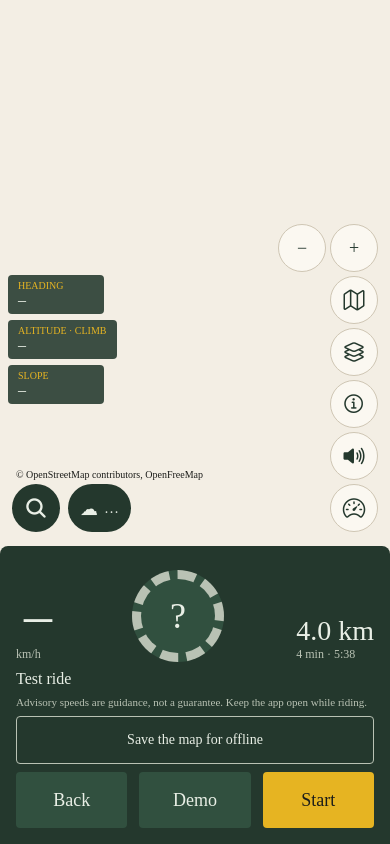
Scenario: going over turns the sign red, says so to a screen reader, and vibrates once
Click the button "Start" at (318, 800), box [263,772,374,828]
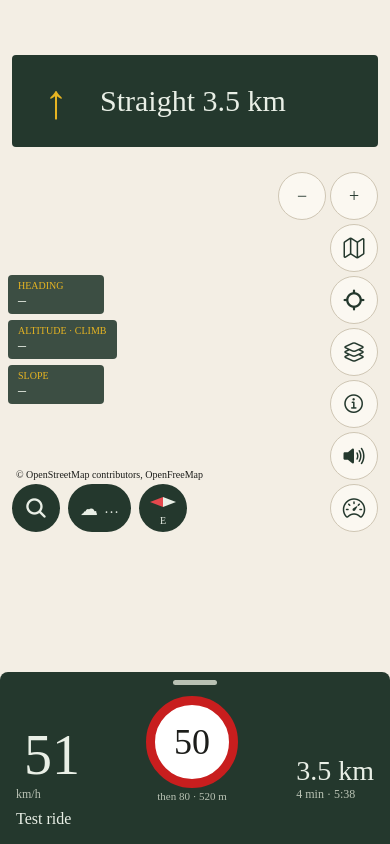
Expected: the element named "Speed limit 50" is shown, [146,696,238,788]
